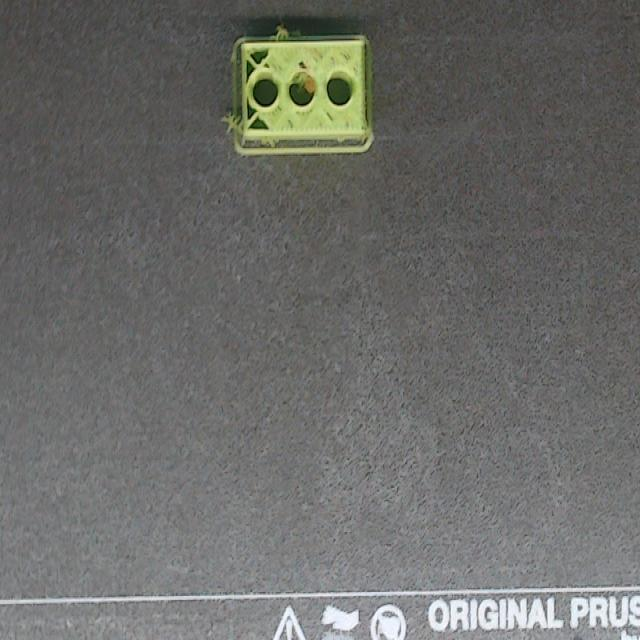mistake: (290, 71, 315, 104), (272, 21, 308, 40), (221, 111, 241, 139), (228, 37, 244, 69), (325, 135, 355, 147)
